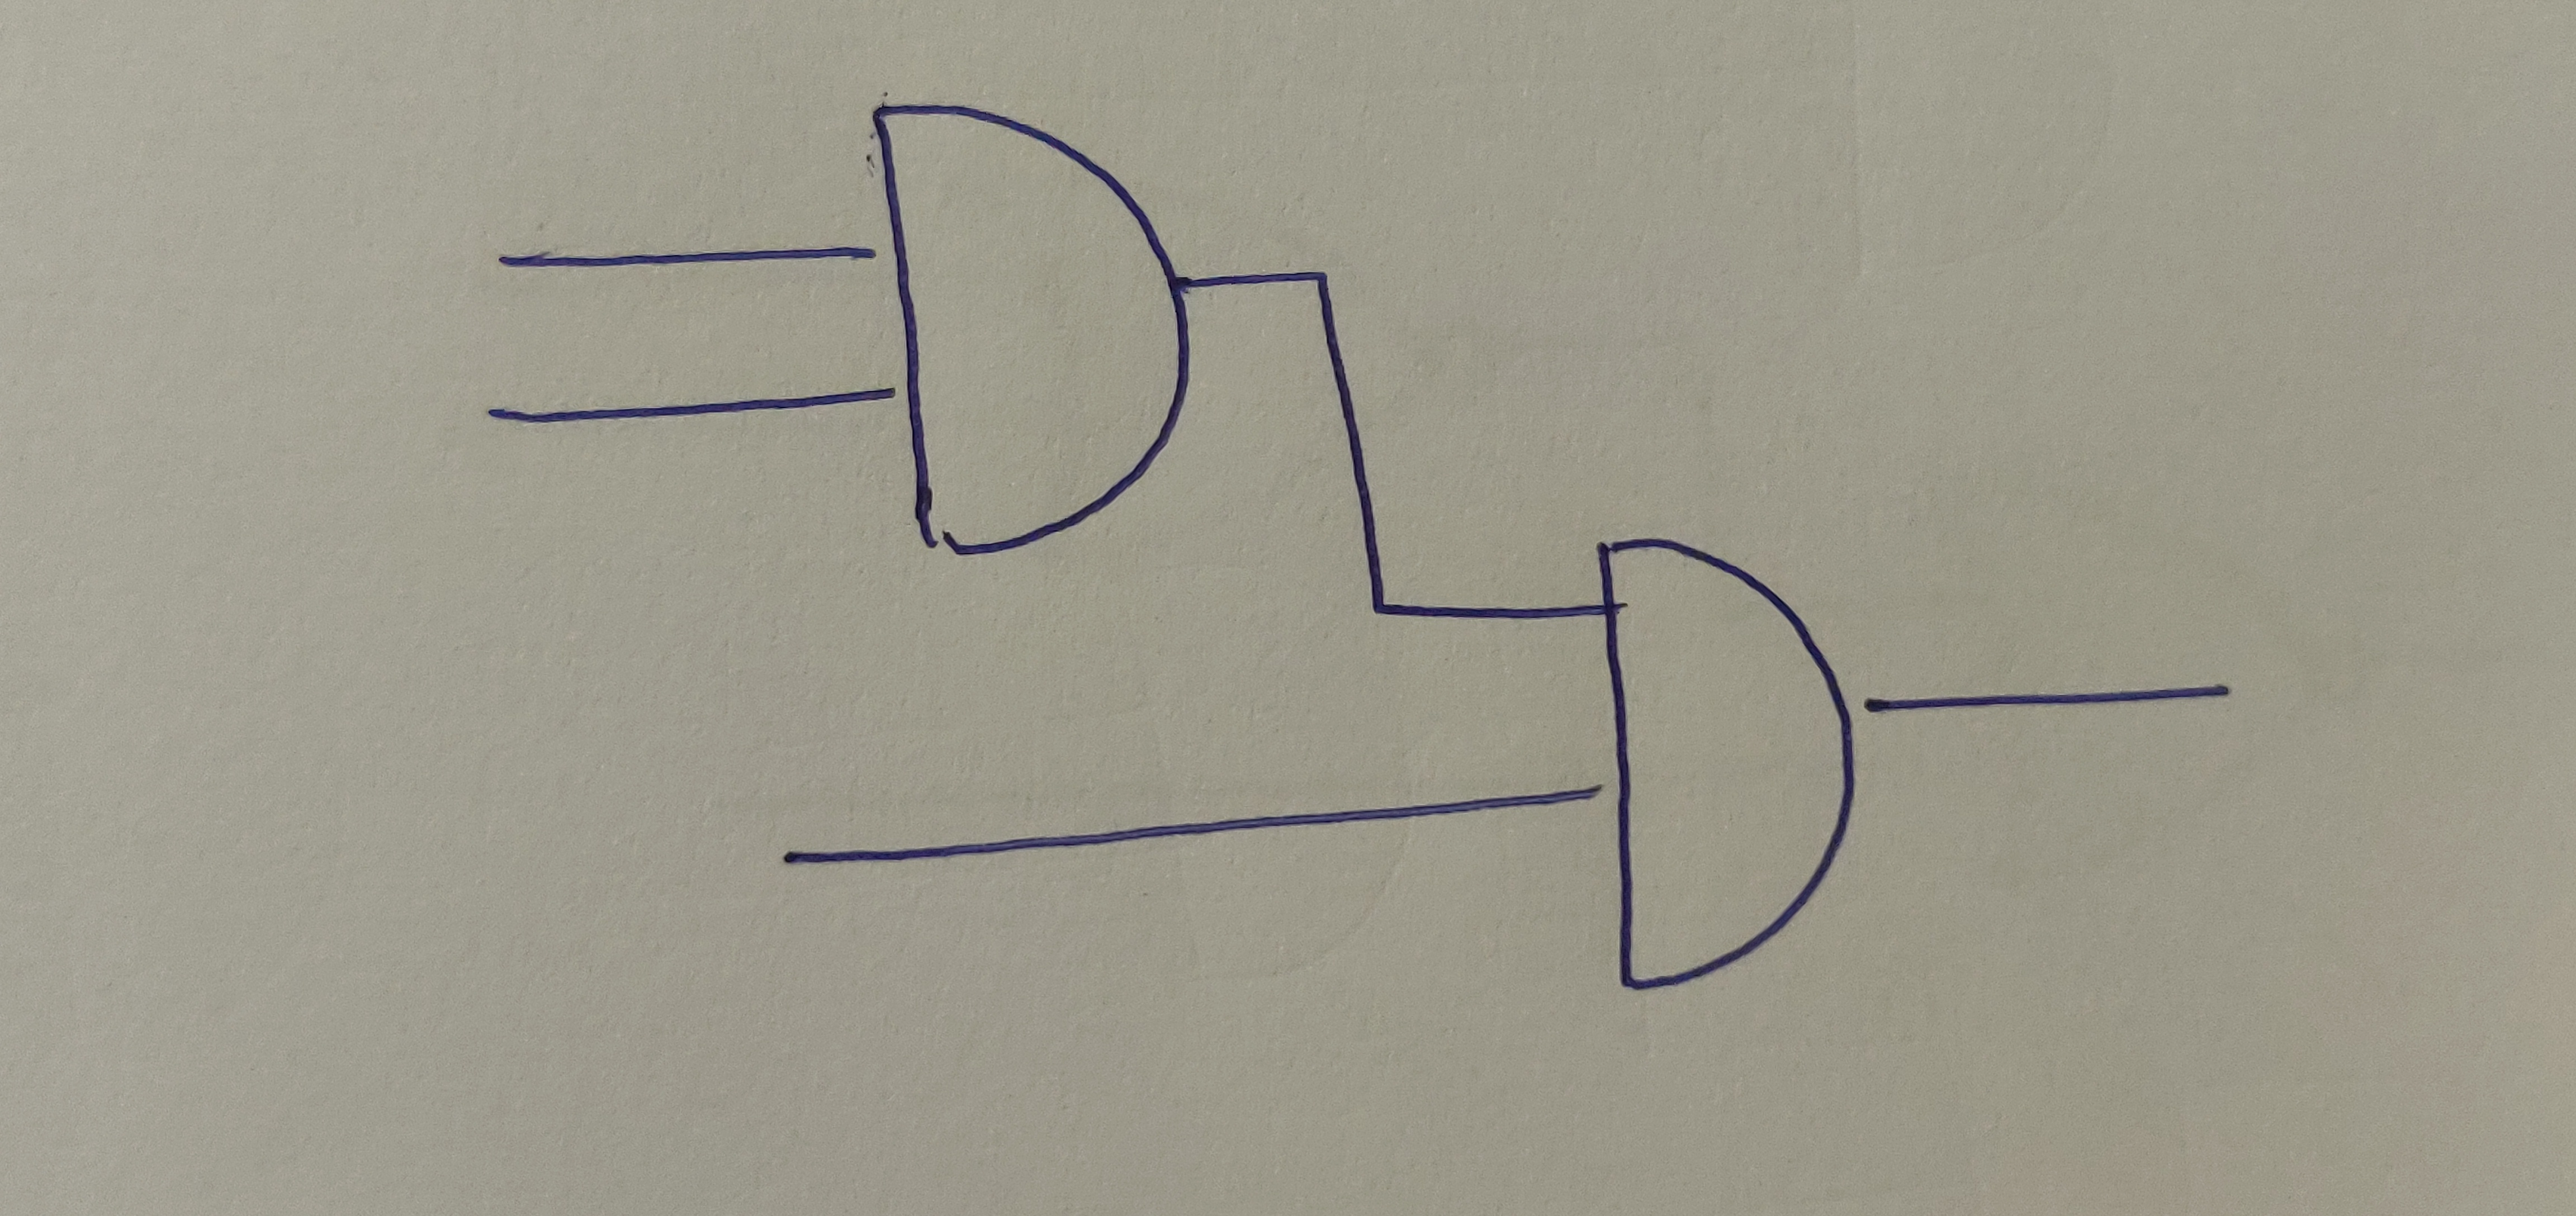and: (876, 97, 1193, 557), (1597, 532, 1858, 994)
